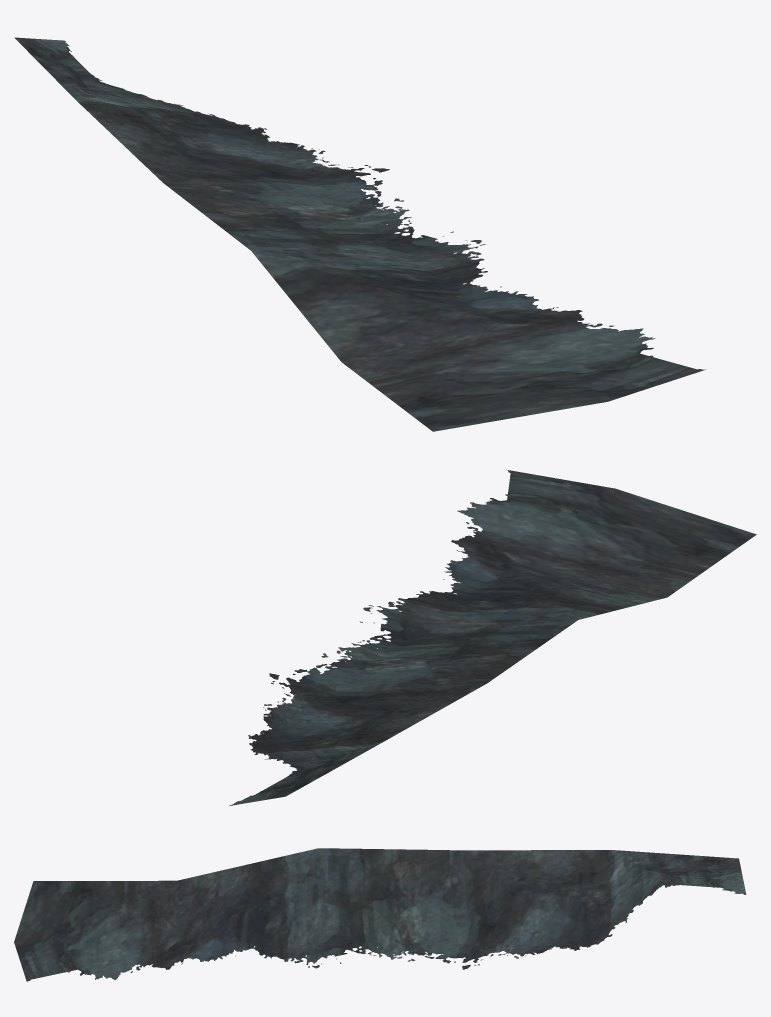
File: blend_weeds19.fbx
3 renders of one model, top to bottom at view 1: azimuth 30°, elevation 25°; view 2: azimuth 150°, elevation 25°; view 3: azimuth 270°, elevation 25°, orthographic. The views are drawn at different scales.
Visible parts, largest first — view 1: New_terrain/Material_#238682132; view 2: New_terrain/Material_#238682132; view 3: New_terrain/Material_#238682132.
Part boxes in pixels (box(x1,y1,x2,y2)): New_terrain/Material_#238682132: box(14, 37, 706, 431); New_terrain/Material_#238682132: box(229, 469, 756, 805); New_terrain/Material_#238682132: box(14, 848, 746, 981).
Bounding box in the file's own units: 5.06 × 0.7542 × 13.06.
